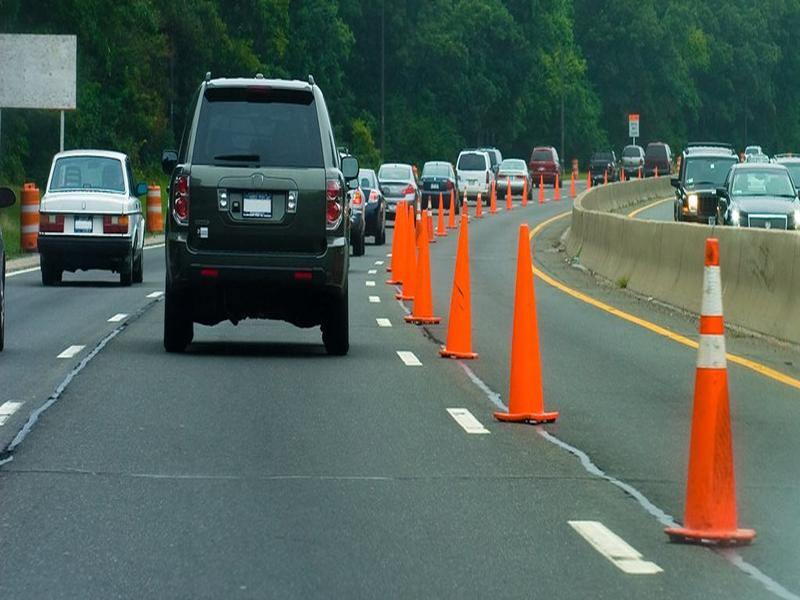Cone: (493, 222, 559, 424), (441, 212, 480, 359), (404, 208, 440, 324), (396, 205, 427, 300)
